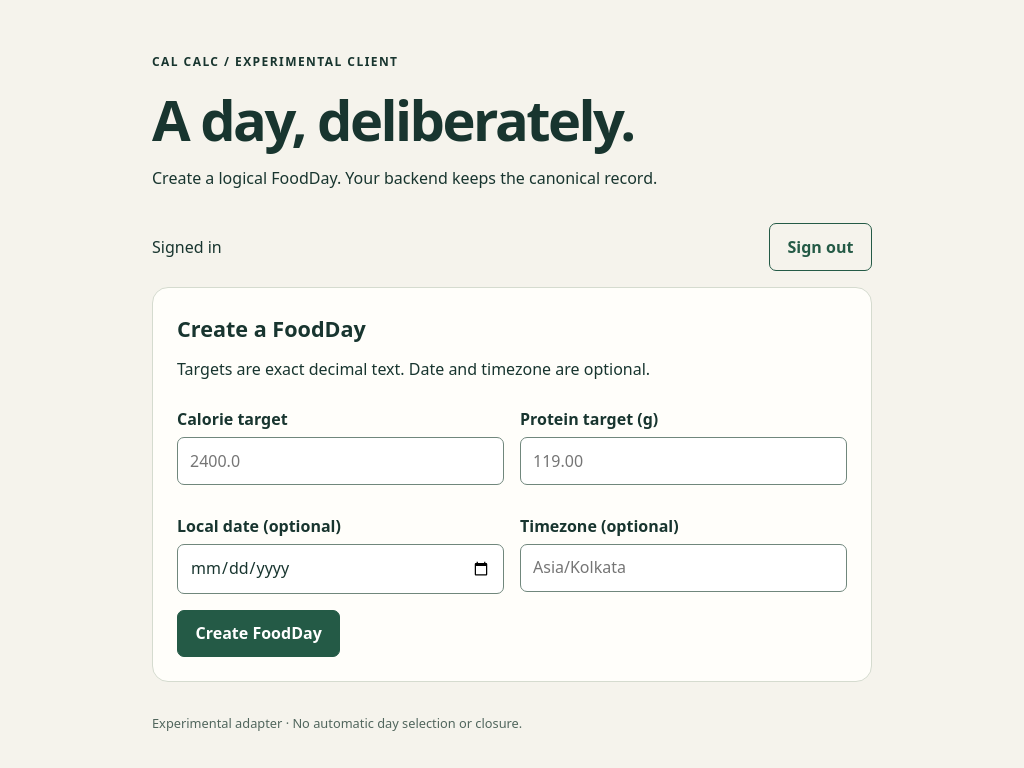
Test: experimental FoodDay client › visibly distinguishes a 200 REPLAYED response
Expected: the heading "Create a FoodDay" is shown, [177,314,366,343]
In the field labelled "Calorie target": coordinates (340, 461) [177,437,504,485], type "685.107500"
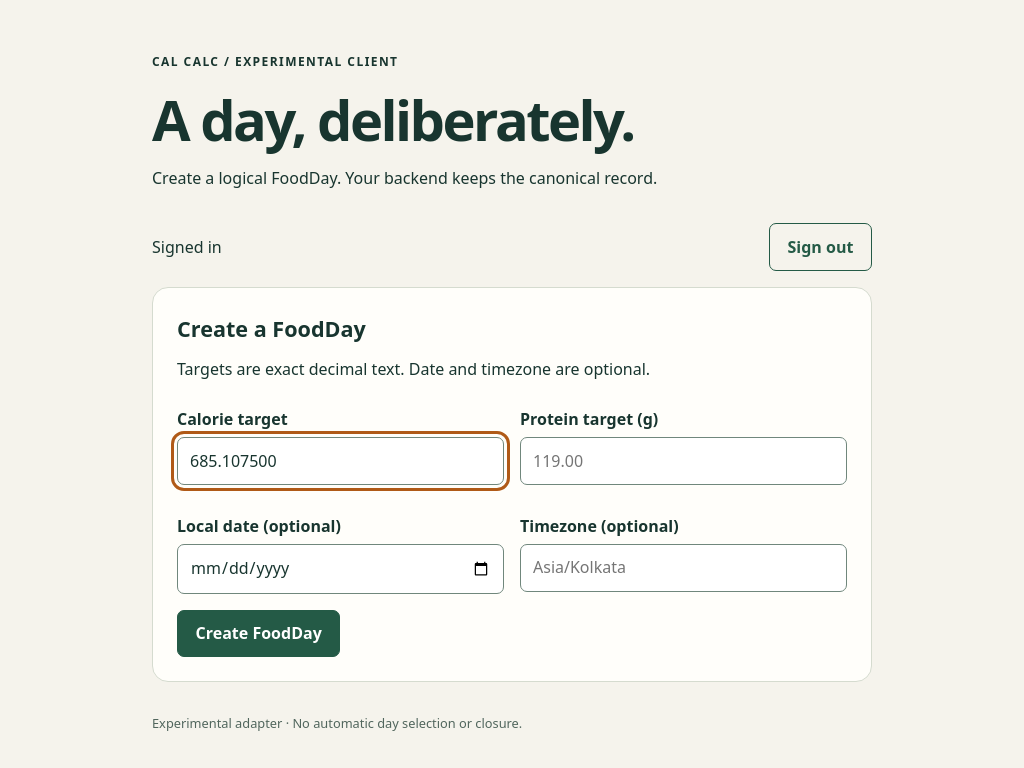
In the field labelled "Protein target (g)": coordinates (684, 461) [520,437,847,485], type "41.002500"
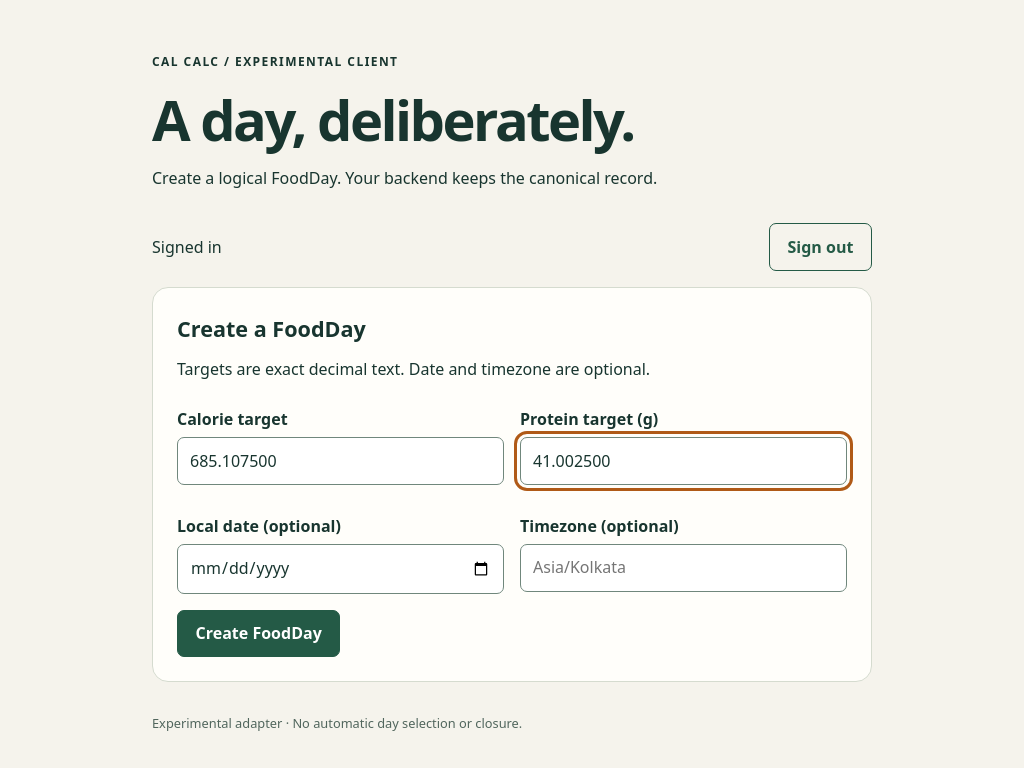
Click the button "Create FoodDay": coordinates (259, 633) [177,610,340,657]
(page scrolled)
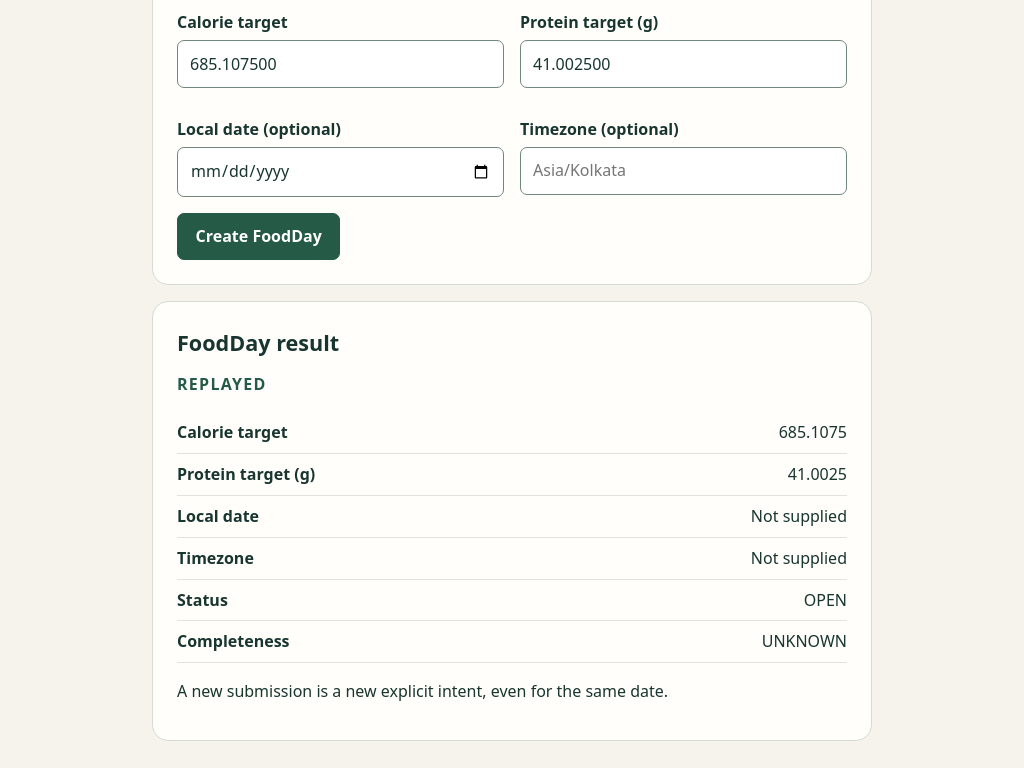
Expected: the text "REPLAYED" is shown, [177,373,267,395]
